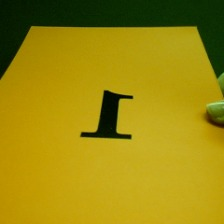orange1: (77, 87, 136, 149)
